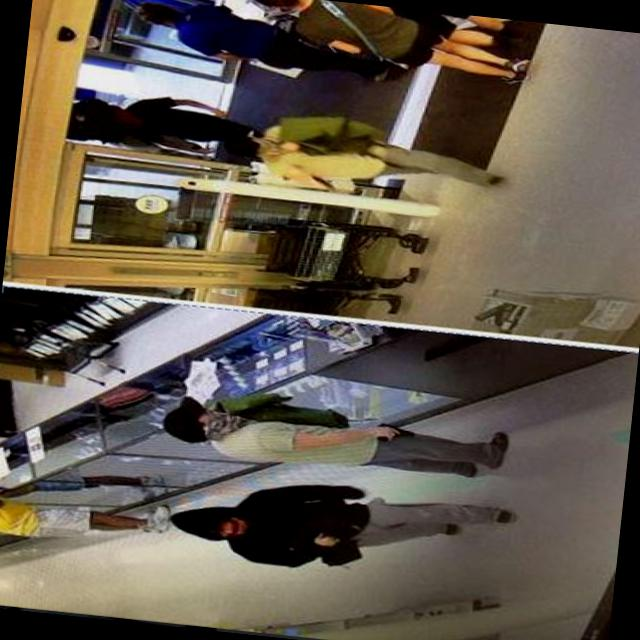handgun: (371, 425, 410, 445)
